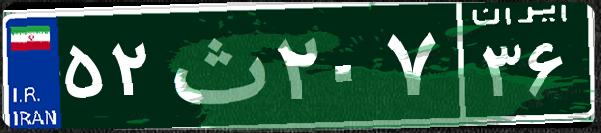0: (330, 28, 385, 110)
2: (273, 28, 330, 110), (110, 28, 158, 105)
3: (475, 38, 525, 113)
5: (57, 26, 110, 107)
6: (525, 38, 570, 115)
7: (385, 28, 445, 110)
ث: (158, 15, 273, 115)
